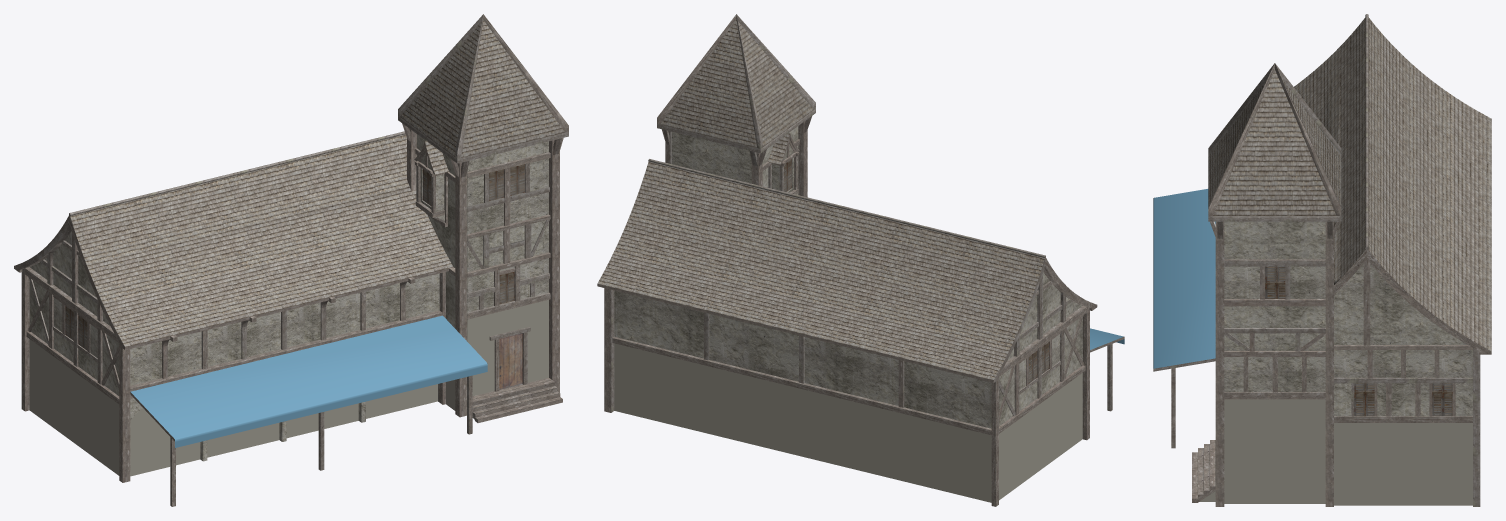
File: Market.fbx
3 views of the same model, side by side, from view 1: azimuth 30°, elevation 25°; view 2: azimuth 150°, elevation 25°; view 3: azimuth 270°, elevation 25° (orthographic). The views are drawn at different scales.
Visible parts, largest first — view 1: Model; view 2: Model; view 3: Model.
Boxes of the visible parts, x1=… form: Model: x1=14, y1=14, x2=568, y2=506; Model: x1=597, y1=14, x2=1124, y2=506; Model: x1=1153, y1=14, x2=1491, y2=506.
Bounding box in the file's own units: 11.28 × 9.35 × 6.87.
